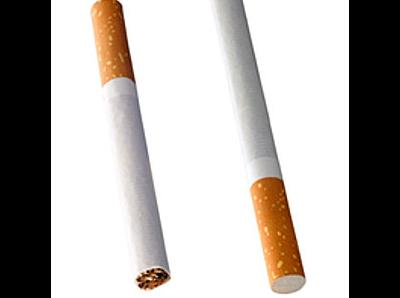Cigarette: (210, 0, 306, 293), (89, 0, 170, 288)
